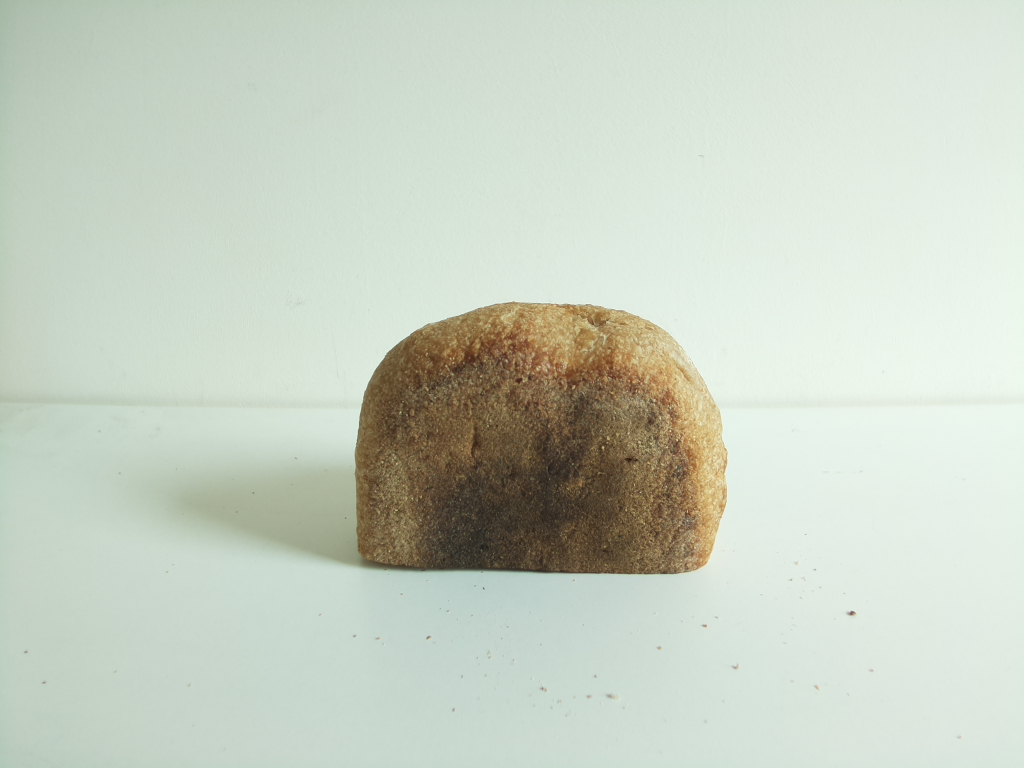bread: (349, 301, 729, 575)
